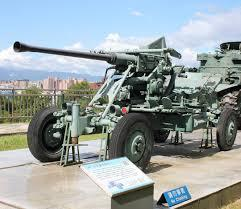MIL_SPG: (14, 37, 241, 170), (27, 103, 72, 162)
